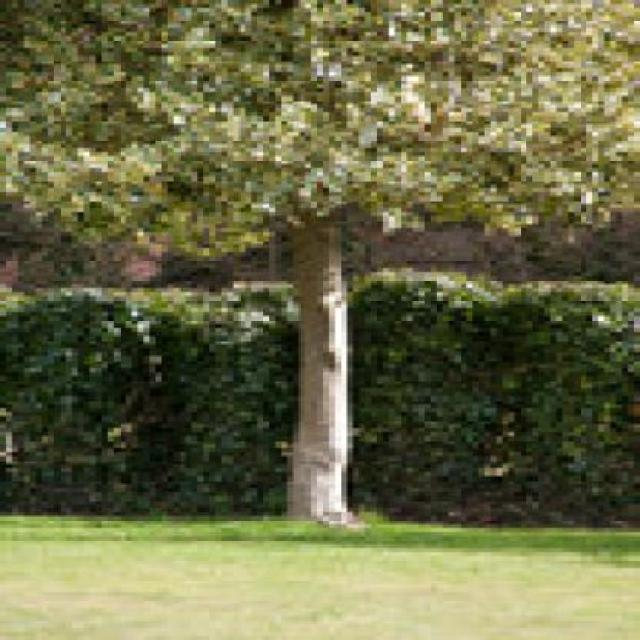tree trunk: (277, 203, 371, 534)
